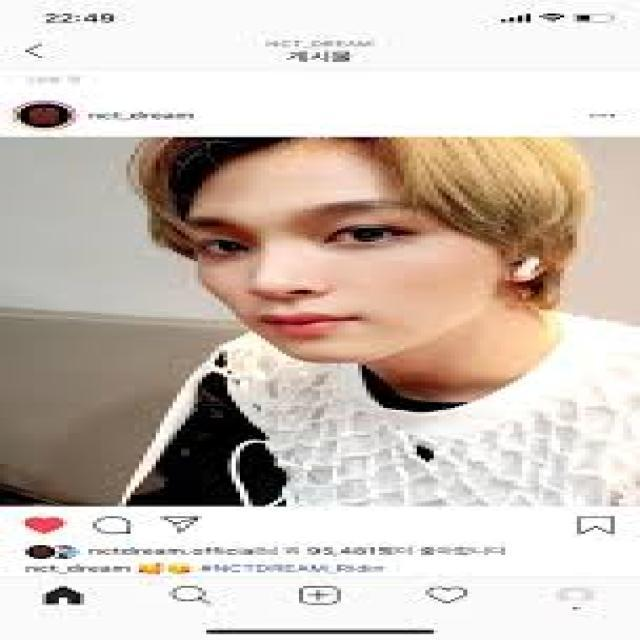earphone: (498, 238, 560, 292)
